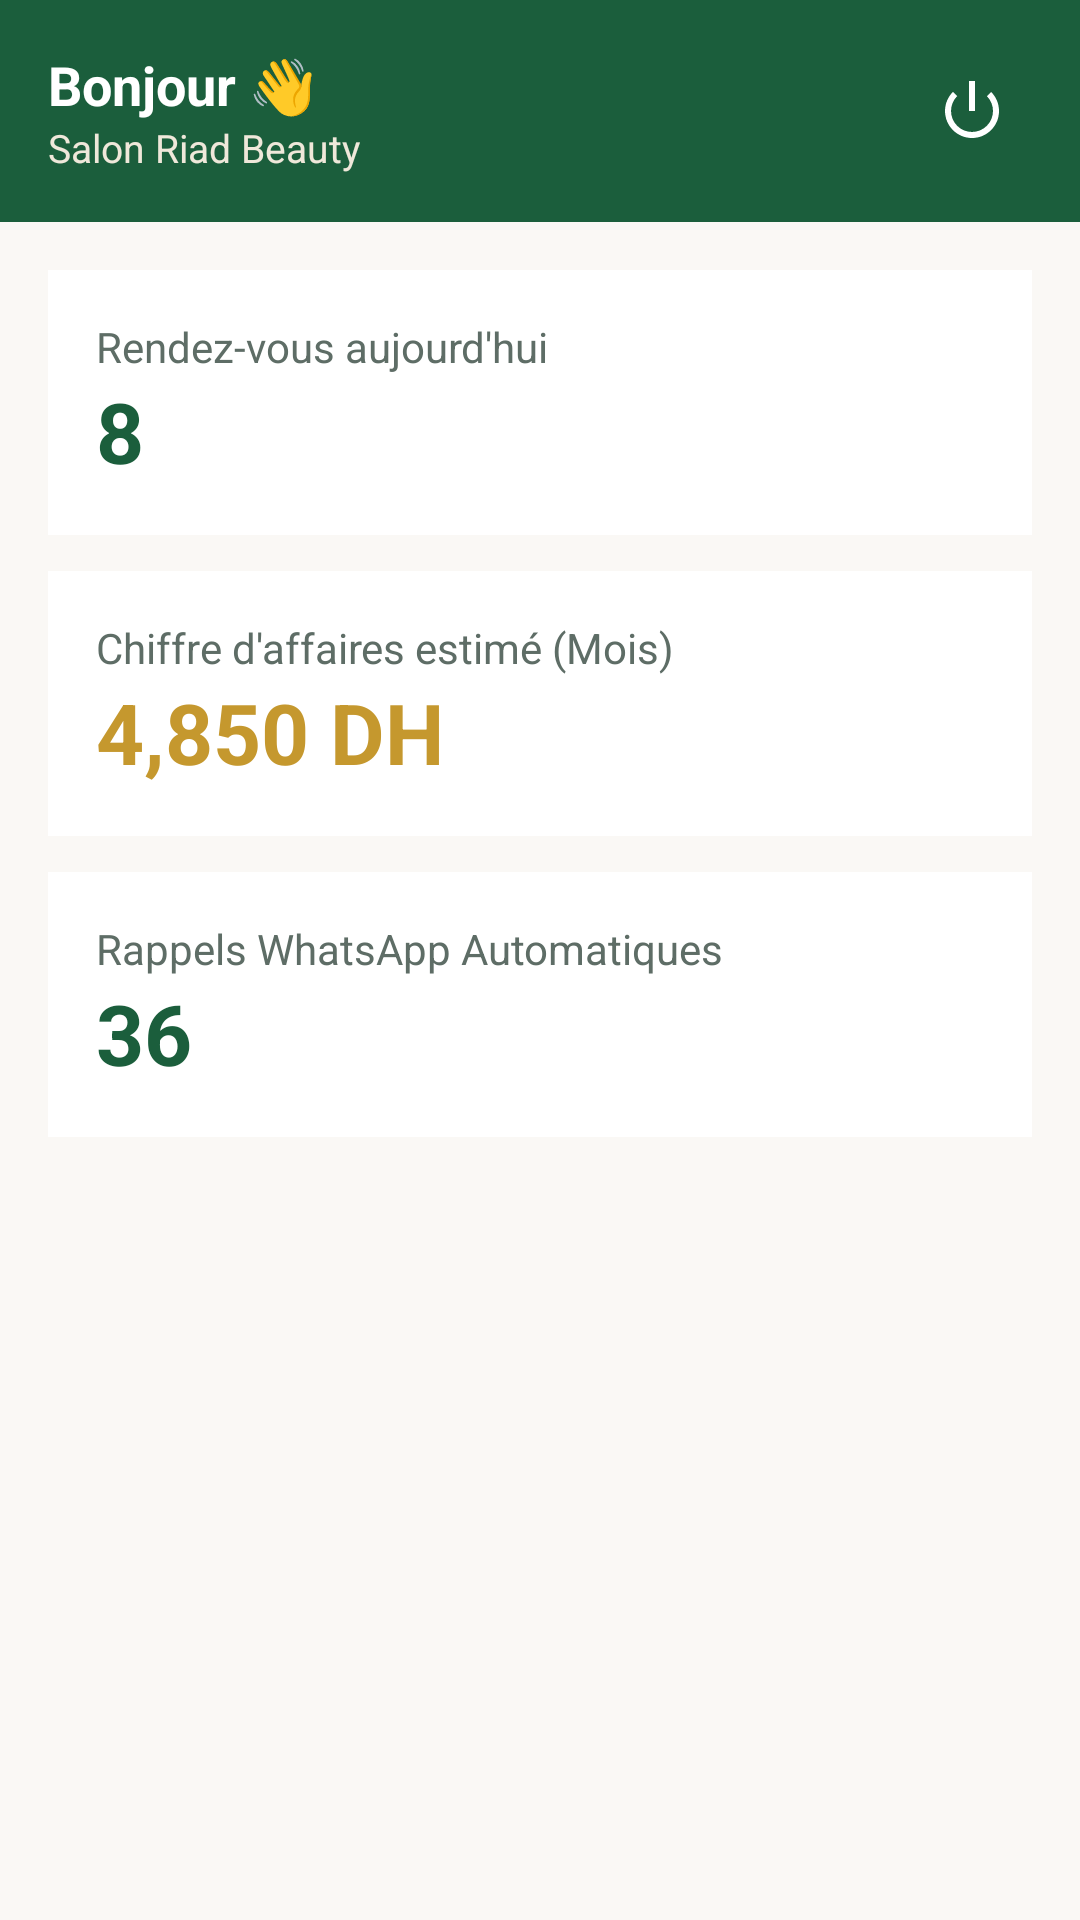

Icons on this 1080px x 1920px Android screen, each with its box as (x1, y1, x2, y2):
lock power off: (945, 81, 999, 138)
